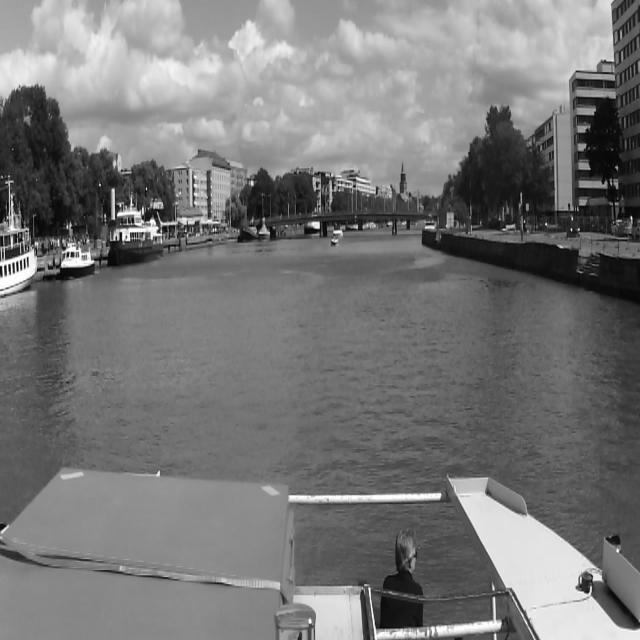ship: (2, 175, 34, 302), (109, 197, 167, 266), (58, 231, 98, 277), (260, 220, 272, 246), (242, 222, 255, 244), (328, 235, 338, 247)
